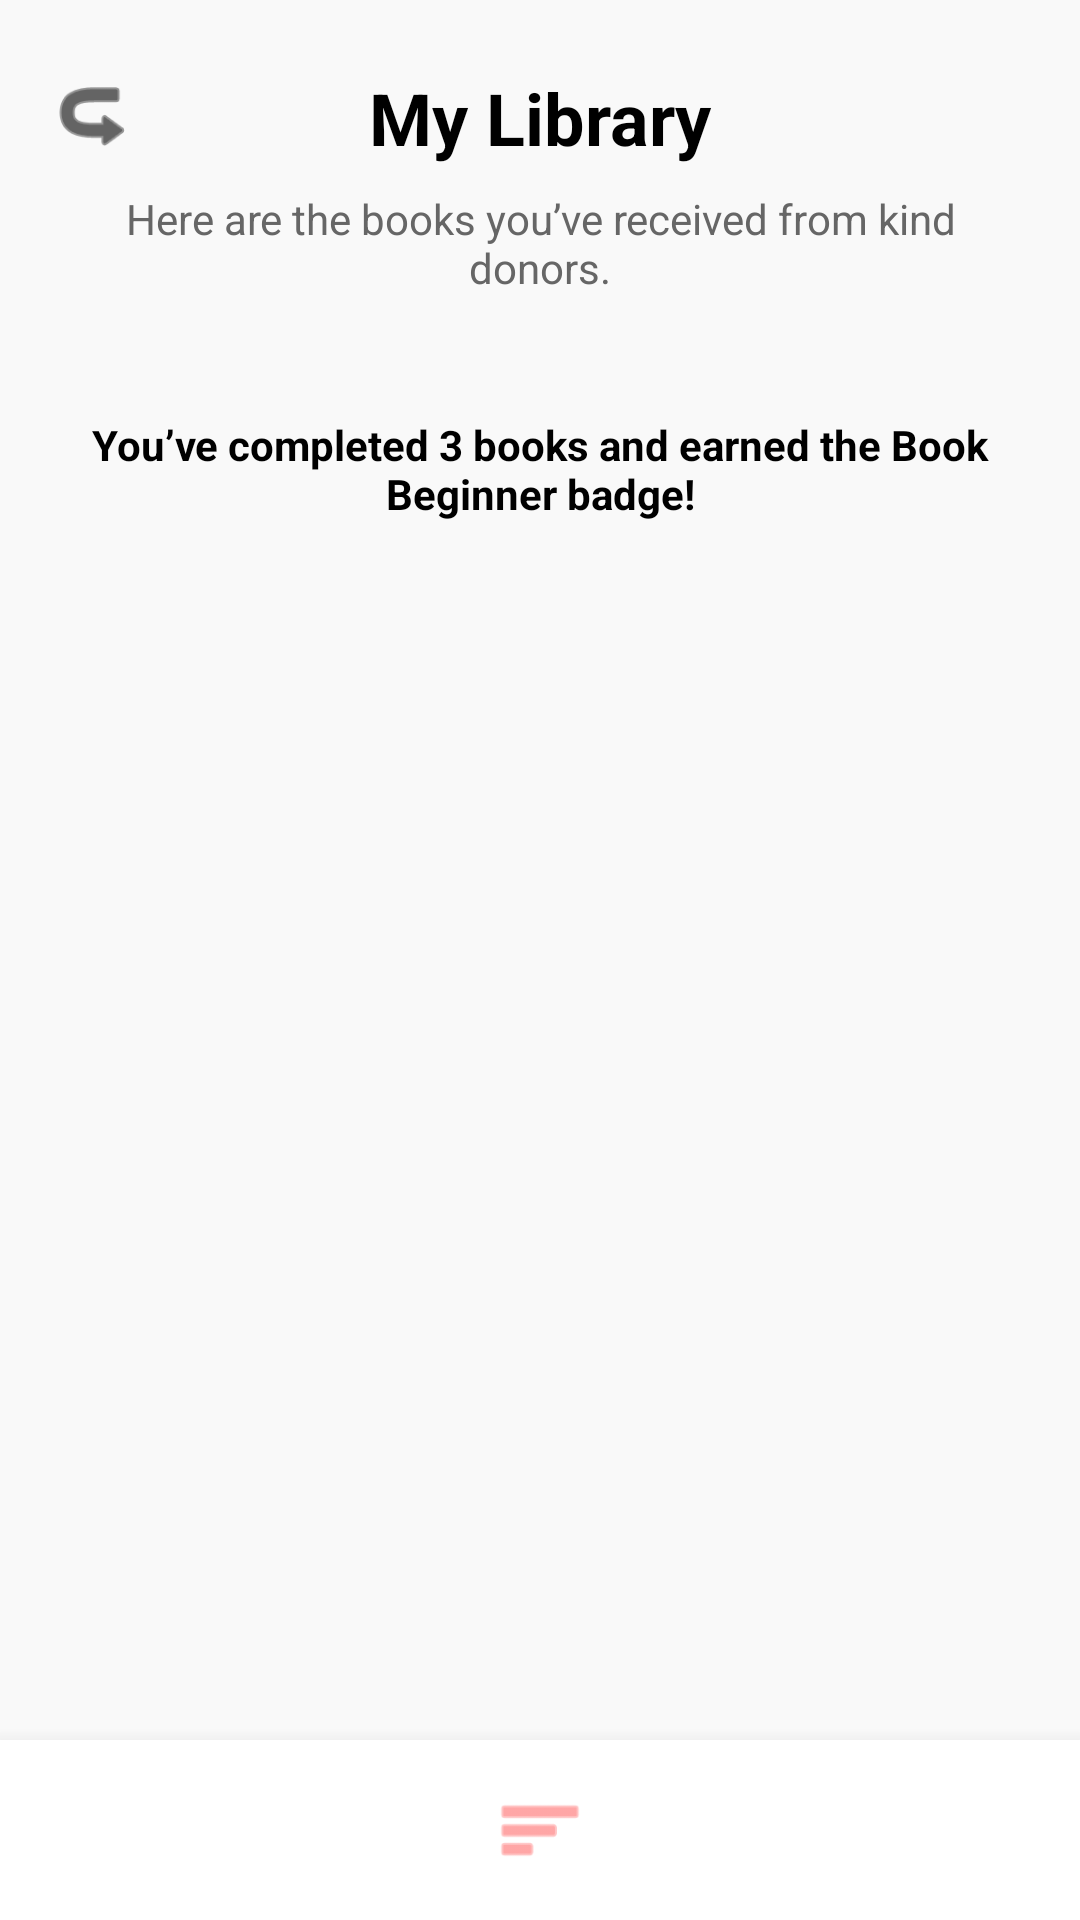

Icon click points for this 1080px x 1920px phone screenshot, format (x=x, y=y):
sort by size: (x=540, y=1830)
